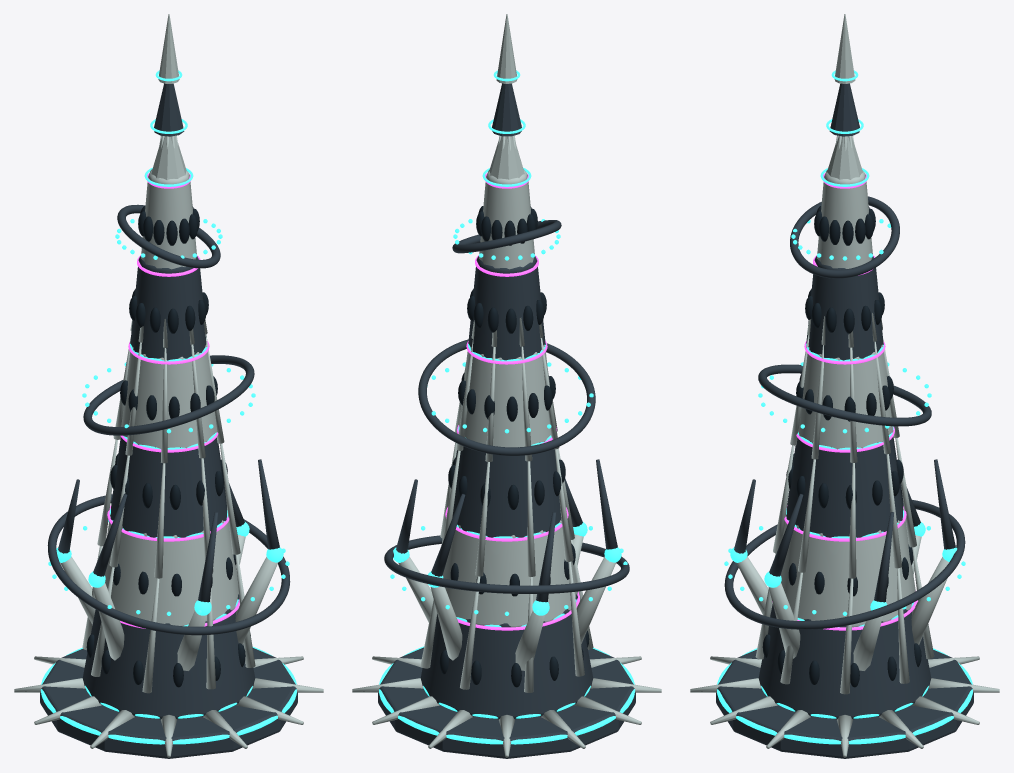
The model's file is SCIFI building.fbx.
3 views of the same model, side by side, from view 1: azimuth 30°, elevation 25°; view 2: azimuth 150°, elevation 25°; view 3: azimuth 270°, elevation 25° (orthographic).
Parts seen in each view (by area): view 1: Tower tier 01, Megatower foundation plinth, Tower tier 02, Tower tier 03, Tower tier 04, Tower tier 05, Floating orbital ring 1, Tower tier 06, Floating orbital ring 2, Foundation luminous perimeter, Floating orbital ring 3, Outward buttress 6A (+19 smaller); view 2: Tower tier 01, Megatower foundation plinth, Tower tier 02, Tower tier 03, Tower tier 04, Tower tier 05, Floating orbital ring 2, Tower tier 06, Floating orbital ring 1, Foundation luminous perimeter, Floating orbital ring 3, Outward buttress 2A (+17 smaller); view 3: Tower tier 01, Megatower foundation plinth, Tower tier 02, Tower tier 03, Tower tier 04, Tower tier 05, Floating orbital ring 1, Tower tier 06, Floating orbital ring 2, Floating orbital ring 3, Foundation luminous perimeter, Outward buttress 2A (+19 smaller).
Part boxes in pixels (box(x1,y1,x2,y2)): Tower tier 01: box(82, 594, 255, 719); Megatower foundation plinth: box(40, 648, 297, 758); Tower tier 02: box(105, 508, 238, 626); Tower tier 03: box(110, 433, 226, 537); Tower tier 04: box(121, 344, 217, 448); Tower tier 05: box(130, 256, 206, 360); Floating orbital ring 1: box(47, 494, 290, 635); Tower tier 06: box(141, 169, 196, 269); Floating orbital ring 2: box(83, 355, 254, 435); Foundation luminous perimeter: box(40, 647, 296, 744); Floating orbital ring 3: box(117, 204, 220, 268); Outward buttress 6A: box(235, 557, 278, 644); Tower tier 01: box(420, 594, 593, 719); Megatower foundation plinth: box(378, 647, 635, 758); Tower tier 02: box(443, 520, 577, 627); Tower tier 03: box(452, 442, 561, 537); Tower tier 04: box(458, 344, 550, 447); Tower tier 05: box(468, 256, 545, 360); Floating orbital ring 2: box(418, 339, 595, 455); Tower tier 06: box(479, 169, 534, 269); Floating orbital ring 1: box(384, 535, 629, 593); Foundation luminous perimeter: box(379, 646, 635, 744); Floating orbital ring 3: box(452, 220, 561, 253); Outward buttress 2A: box(430, 586, 462, 660); Tower tier 01: box(758, 604, 931, 719); Megatower foundation plinth: box(716, 649, 973, 758); Tower tier 02: box(780, 508, 915, 627); Tower tier 03: box(786, 433, 903, 537); Tower tier 04: box(798, 344, 893, 449); Tower tier 05: box(806, 256, 883, 360); Floating orbital ring 1: box(724, 500, 965, 629); Tower tier 06: box(817, 170, 872, 268); Floating orbital ring 2: box(758, 364, 931, 426); Floating orbital ring 3: box(790, 196, 899, 278); Foundation luminous perimeter: box(717, 648, 972, 744); Outward buttress 2A: box(911, 557, 949, 644).
Bounding box in the file's own units: 3003 × 7400 × 3003.
